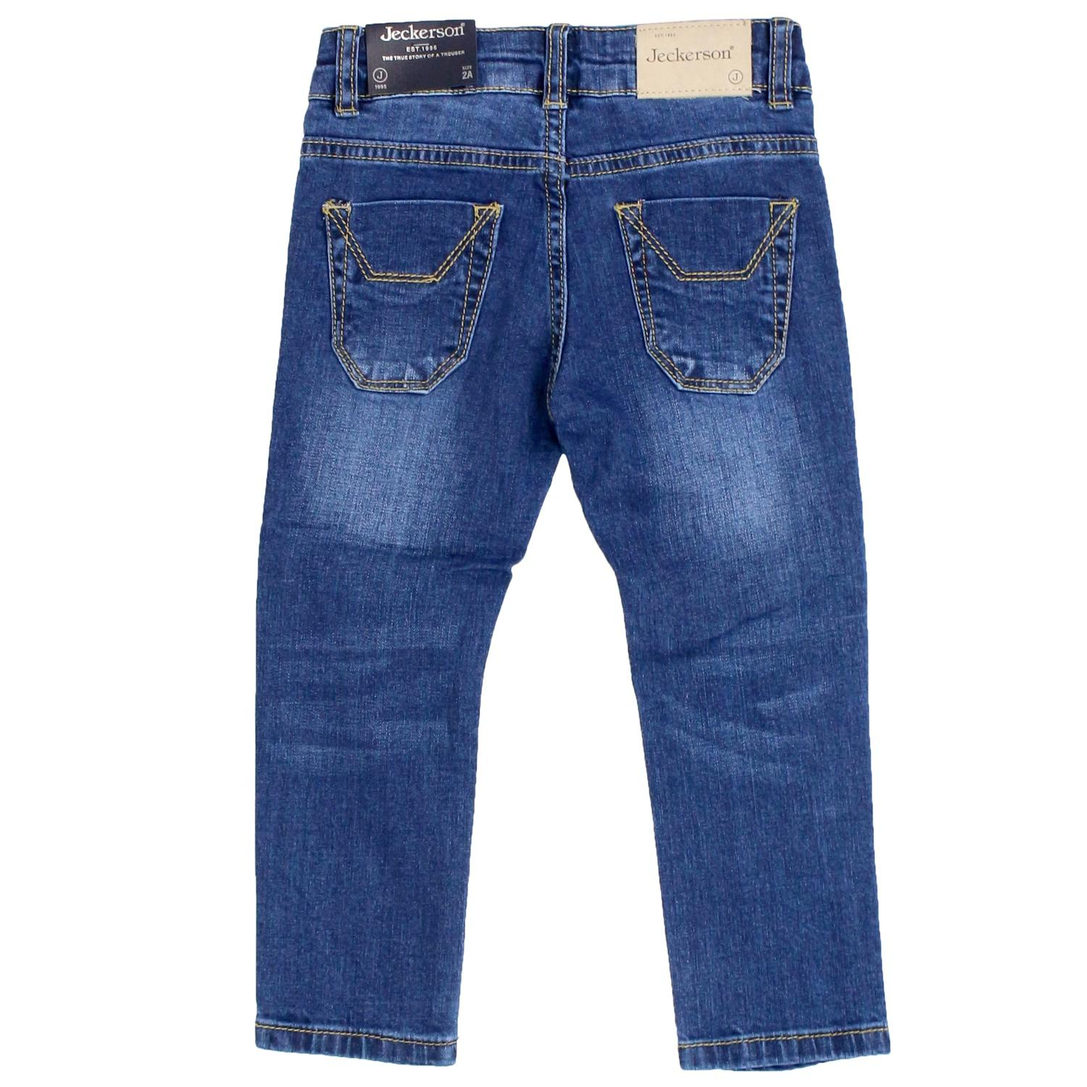jeans: (238, 6, 901, 1087)
